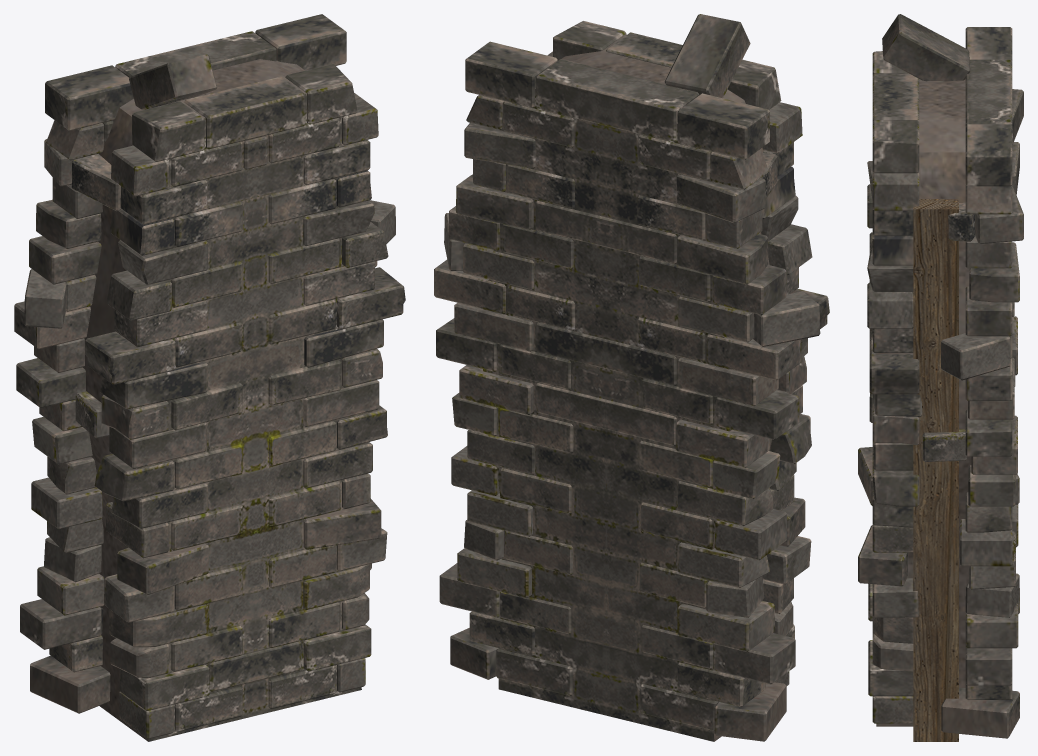
The model's file is SM_ASY_RuinsWall_Blocker_02.fbx.
3 views of the same model, side by side, from view 1: azimuth 30°, elevation 25°; view 2: azimuth 150°, elevation 25°; view 3: azimuth 270°, elevation 25° (orthographic). The views are drawn at different scales.
Visible parts, largest first — view 1: SM_ASY_RuinsWall_Blocker_02.mo; view 2: SM_ASY_RuinsWall_Blocker_02.mo; view 3: SM_ASY_RuinsWall_Blocker_02.mo.
Boxes of the visible parts, left/top/right/bottom form: SM_ASY_RuinsWall_Blocker_02.mo: left=14, top=14, right=405, bottom=741; SM_ASY_RuinsWall_Blocker_02.mo: left=434, top=14, right=829, bottom=741; SM_ASY_RuinsWall_Blocker_02.mo: left=858, top=14, right=1023, bottom=741.
Bounding box in the file's own units: 140 × 240 × 56.88.
